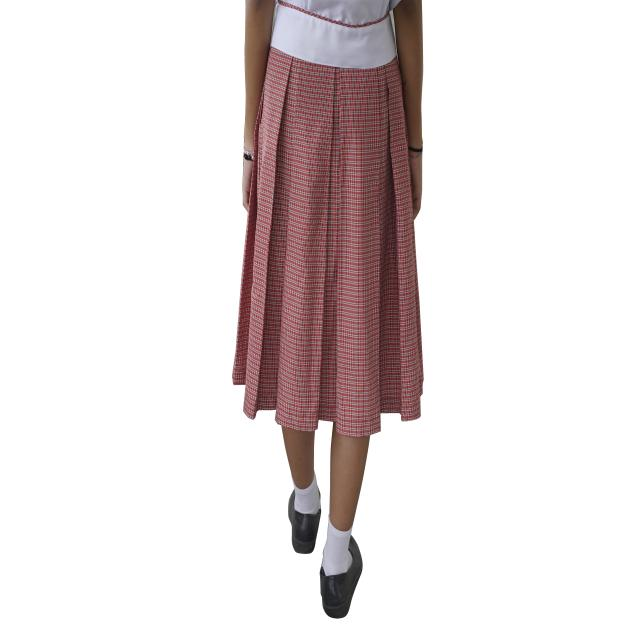shoes: (320, 535, 362, 618), (289, 493, 320, 554)
skirt: (232, 48, 423, 437)
